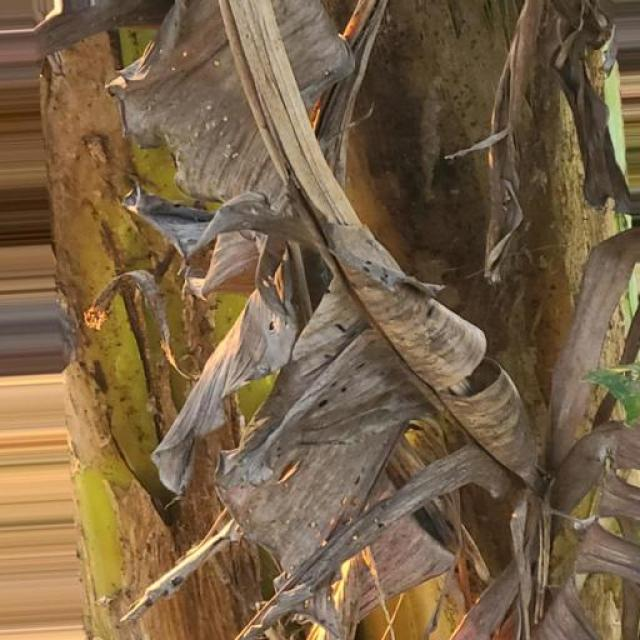Bract_mosaic_virus: (22, 0, 640, 640)
